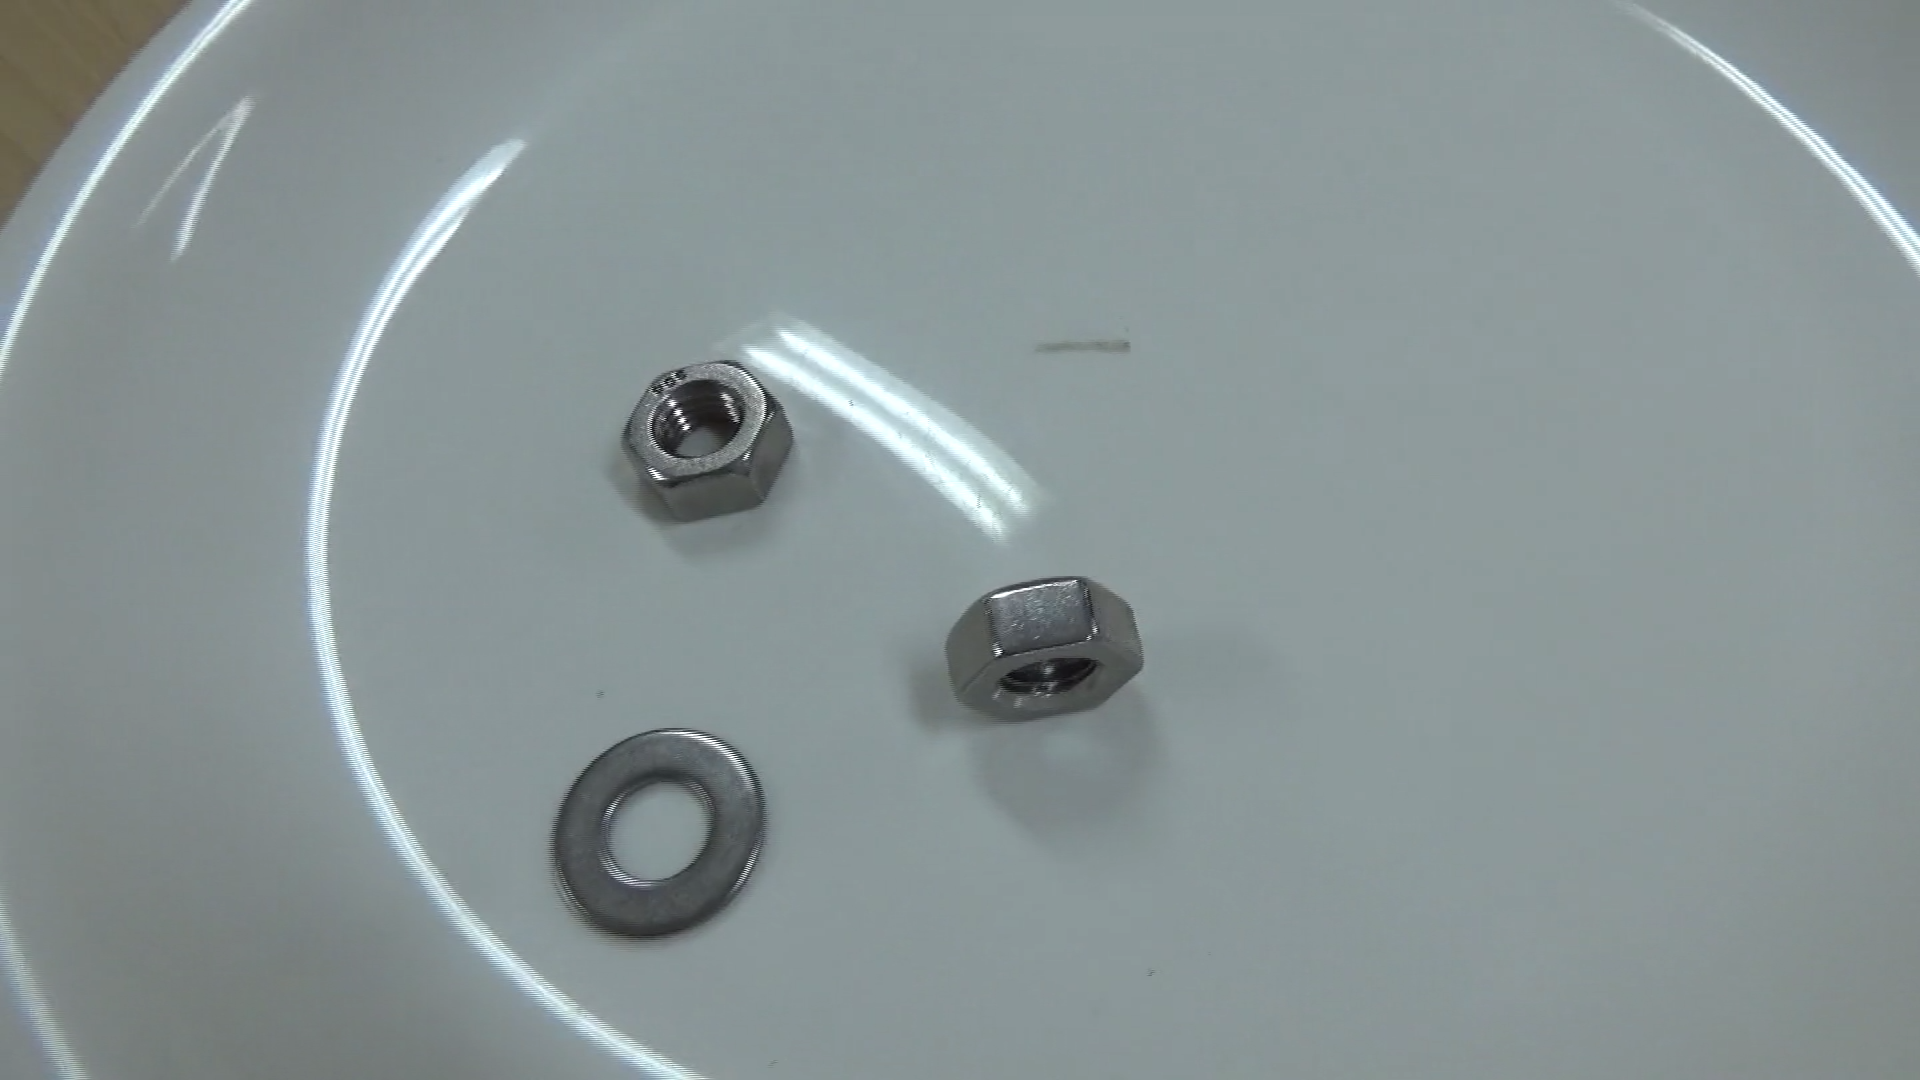nut: (607, 336, 802, 531), (934, 572, 1151, 727)
washer: (543, 702, 774, 952)
